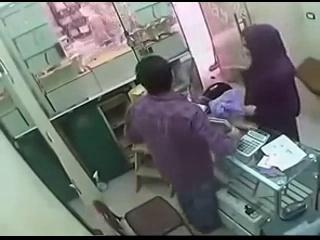Normal: (124, 55, 240, 233), (239, 23, 301, 142), (92, 196, 192, 236), (236, 128, 270, 158)
